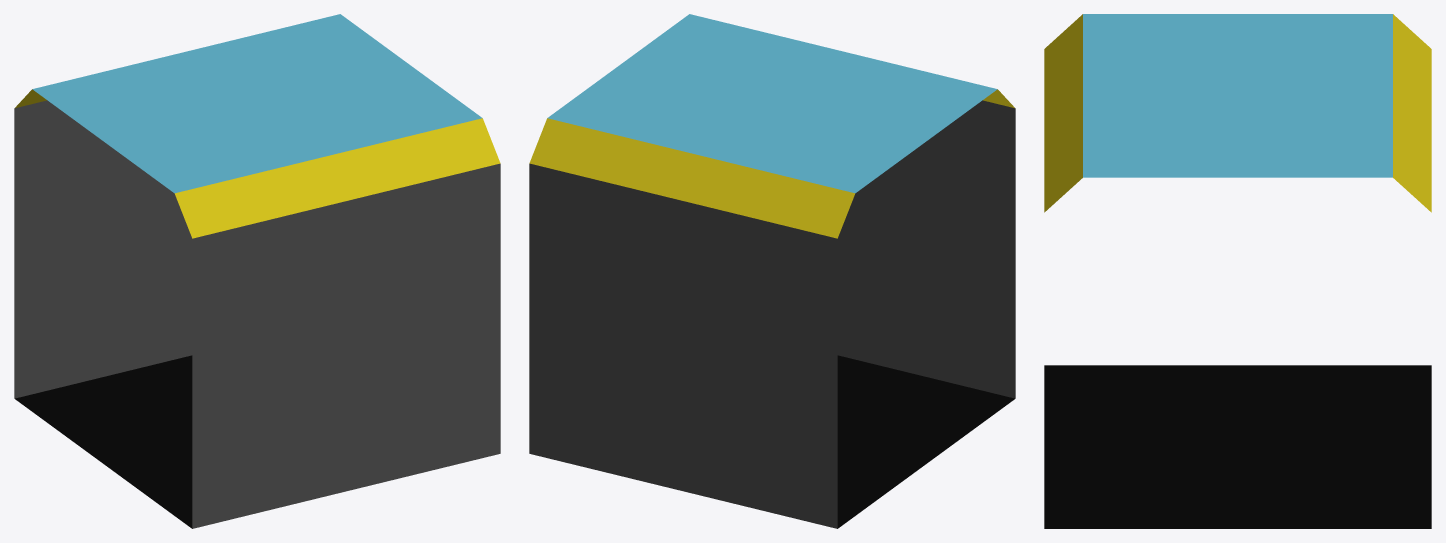
File: wall.fbx
3 views of the same model, side by side, from view 1: azimuth 30°, elevation 25°; view 2: azimuth 150°, elevation 25°; view 3: azimuth 270°, elevation 25° (orthographic). The views are drawn at different scales.
Parts seen in each view (by area): view 1: Plane; view 2: Plane; view 3: Plane.
Part boxes in pixels (bbox=[...]): Plane: bbox=[14, 14, 500, 528]; Plane: bbox=[529, 14, 1015, 528]; Plane: bbox=[1044, 14, 1431, 528].
Size of the model in its own units: 200 by 200 by 200.
